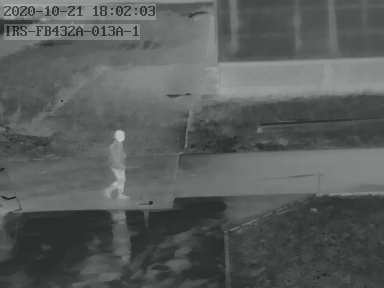person: (104, 129, 128, 201)
